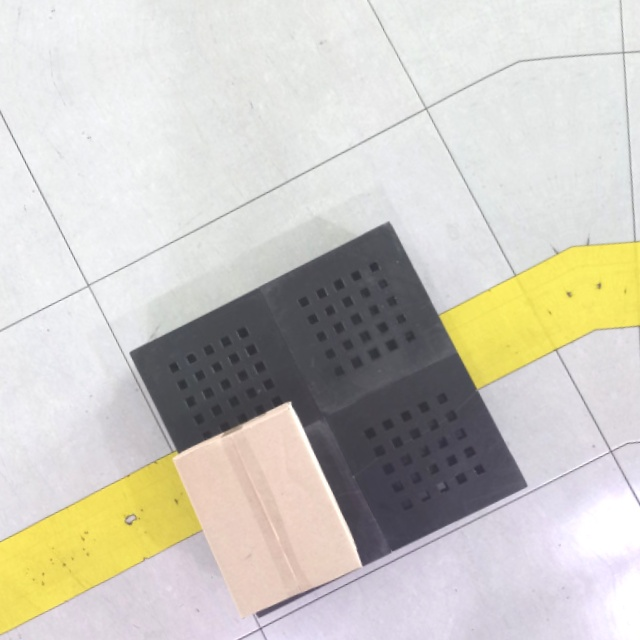box: (170, 396, 363, 621)
pallet: (120, 205, 540, 624)
